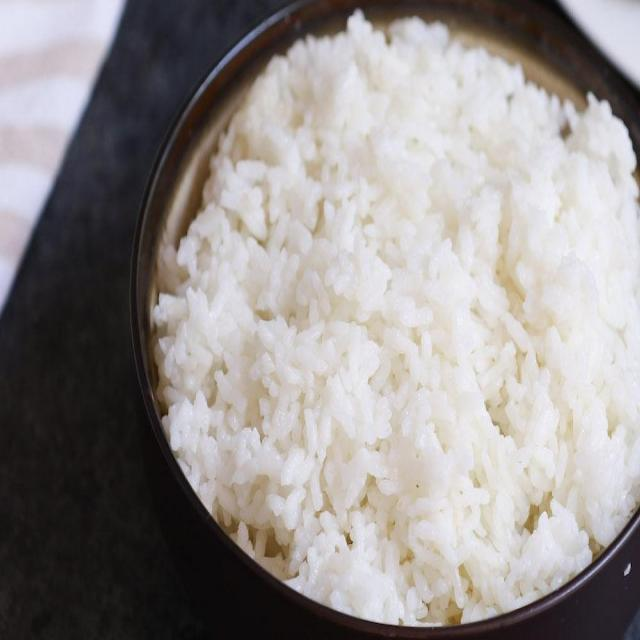rice: (155, 26, 640, 624)
